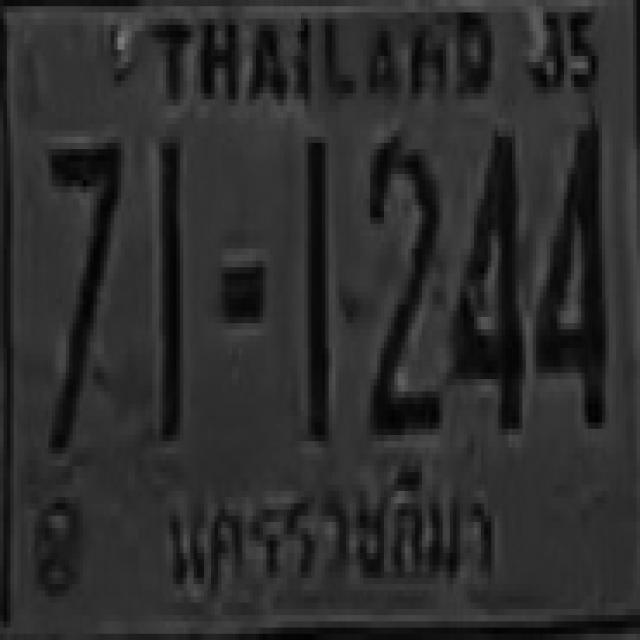1: (304, 130, 326, 435), (159, 130, 180, 435)
2: (367, 130, 439, 429)
4: (534, 118, 604, 423), (452, 127, 520, 426)
7: (47, 137, 119, 447)
NakhonRatchasima: (156, 463, 503, 612)
